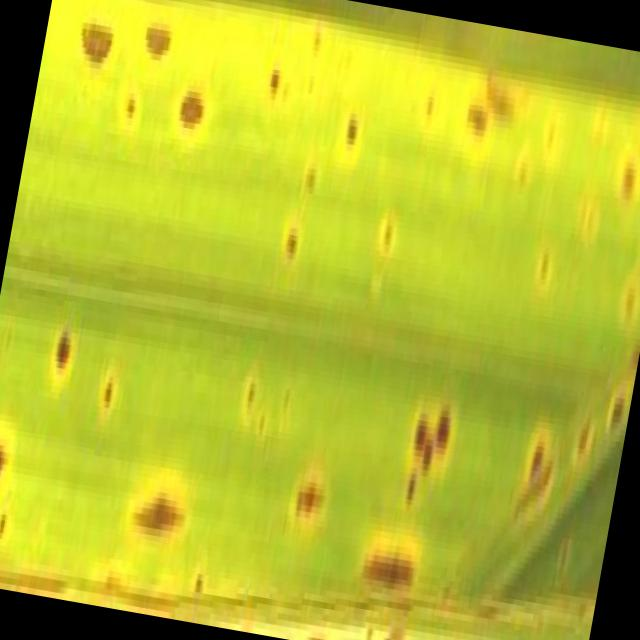Rice_Brownspot: (382, 354, 470, 516), (506, 383, 566, 582), (120, 456, 202, 571), (402, 44, 454, 190), (160, 58, 218, 168), (356, 516, 426, 605), (230, 327, 277, 458), (599, 123, 640, 268), (86, 320, 127, 463), (282, 440, 350, 522), (0, 379, 33, 545), (570, 367, 622, 470), (65, 0, 129, 83), (452, 28, 497, 142), (523, 222, 560, 340), (364, 186, 409, 283), (292, 0, 335, 101), (48, 282, 88, 388), (273, 183, 311, 284), (503, 124, 540, 212), (336, 82, 368, 170), (138, 8, 180, 70), (260, 37, 290, 118)
